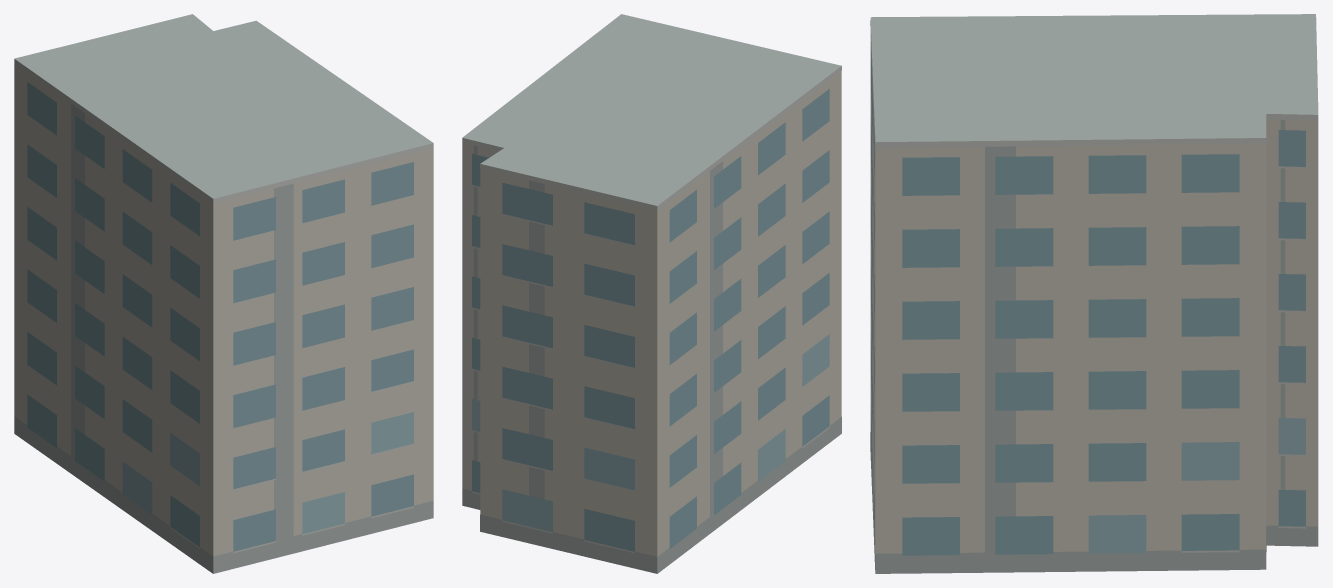
Rendered from survey-upis-32564870.glb.
3 views of the same model, side by side, from view 1: azimuth 30°, elevation 25°; view 2: azimuth 150°, elevation 25°; view 3: azimuth 270°, elevation 25° (orthographic). The views are drawn at different scales.
Parts seen in each view (by area): view 1: survey-upis-32564870.tmp; view 2: survey-upis-32564870.tmp; view 3: survey-upis-32564870.tmp.
Part boxes in pixels (x1,y1,x2,y2): survey-upis-32564870.tmp: (14, 14, 433, 573); survey-upis-32564870.tmp: (462, 14, 841, 573); survey-upis-32564870.tmp: (870, 14, 1318, 573).
Bounding box in the file's own units: 11.66 × 18.3 × 17.22.
